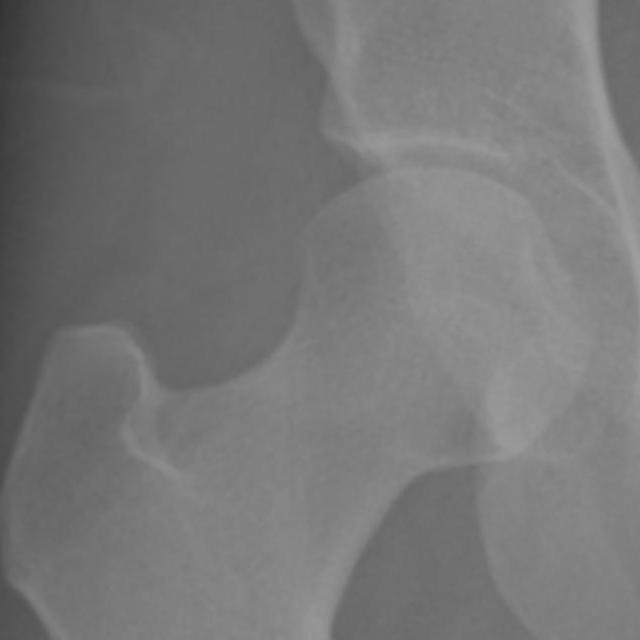Fitted_femural_head: (310, 164, 432, 310)
